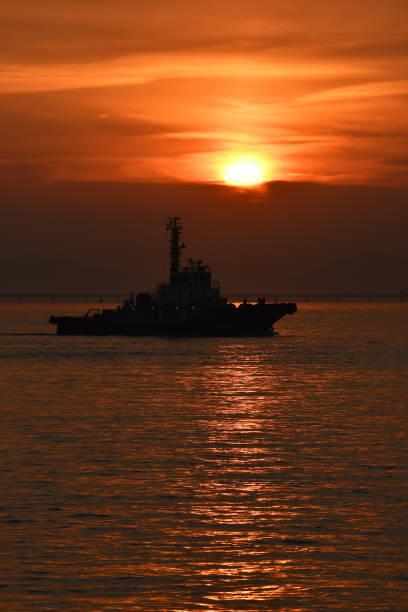MIL_Ship: (47, 212, 303, 338)
